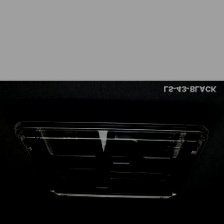plastic_box: (6, 105, 215, 207)
